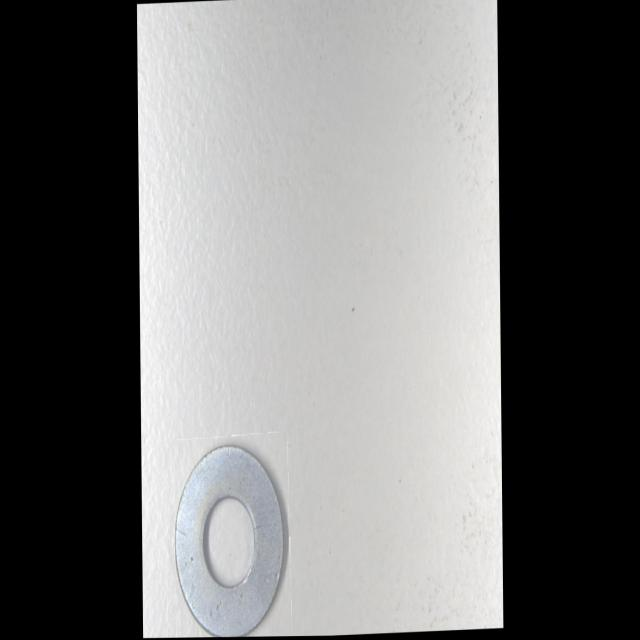washer: (175, 435, 290, 638)
